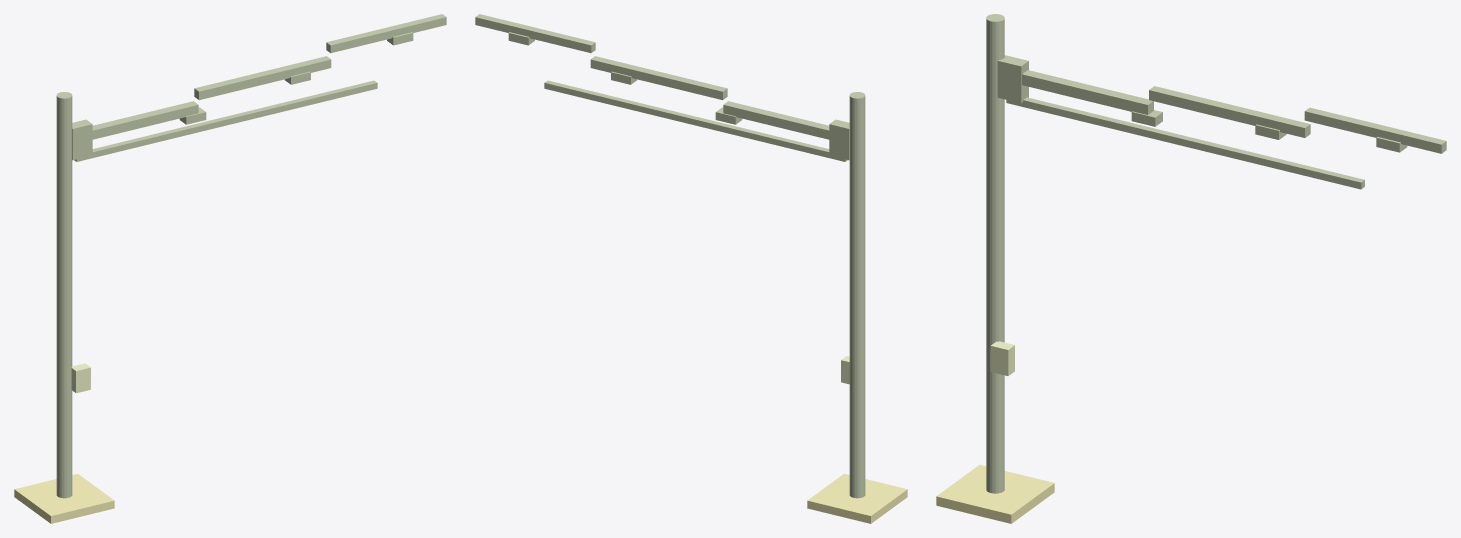
Rendered from furniture_signal_cantilever_curved_mast.glb.
3 renders of one model, left to right at view 1: azimuth 30°, elevation 25°; view 2: azimuth 150°, elevation 25°; view 3: azimuth 330°, elevation 25°, orthographic. The views are drawn at different scales.
Parts seen in each view (by area): view 1: mast, base_pad, lower_brace, arm_mid, arm_inner, arm_outer, joint_plate, service_box; view 2: mast, base_pad, lower_brace, arm_mid, arm_inner, arm_outer, joint_plate; view 3: mast, base_pad, lower_brace, arm_mid, arm_inner, arm_outer, joint_plate, service_box.
Part boxes in pixels (<box>): mast: <box>56,92,72,498</box>; base_pad: <box>14,474,114,523</box>; lower_brace: <box>74,80,377,161</box>; arm_mid: <box>194,56,331,100</box>; arm_inner: <box>92,101,198,139</box>; arm_outer: <box>326,14,446,53</box>; joint_plate: <box>72,119,92,160</box>; service_box: <box>71,363,90,393</box>; mast: <box>849,92,865,498</box>; base_pad: <box>807,474,907,523</box>; lower_brace: <box>544,80,847,161</box>; arm_mid: <box>590,56,727,100</box>; arm_inner: <box>723,101,829,139</box>; arm_outer: <box>475,14,595,53</box>; joint_plate: <box>829,119,849,160</box>; mast: <box>986,14,1004,493</box>; base_pad: <box>936,464,1054,523</box>; lower_brace: <box>1006,97,1364,189</box>; arm_mid: <box>1149,86,1310,137</box>; arm_inner: <box>1022,70,1153,114</box>; arm_outer: <box>1304,107,1446,153</box>; joint_plate: <box>997,55,1028,103</box>; service_box: <box>990,341,1014,375</box>.
Bounding box in the file's own units: 6.6 × 6.24 × 1.02.
